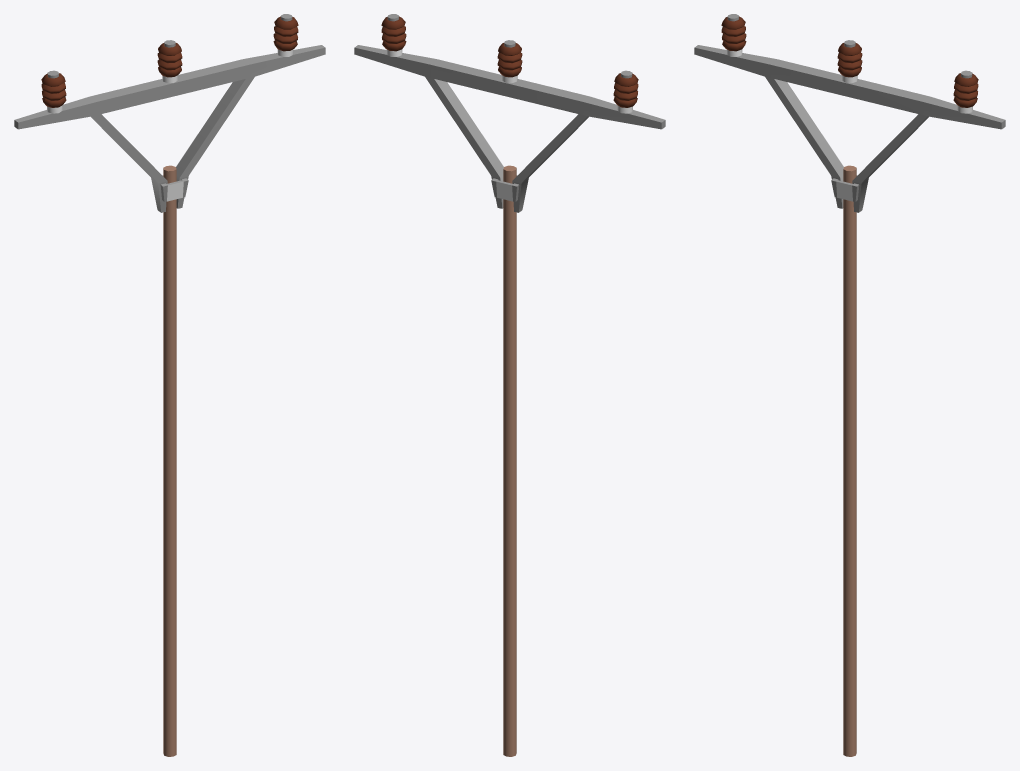
File: pole.obj
3 renders of one model, left to right at view 1: azimuth 30°, elevation 25°; view 2: azimuth 150°, elevation 25°; view 3: azimuth 330°, elevation 25°, orthographic.
Visible parts, largest first — view 1: pole; view 2: pole; view 3: pole.
Part boxes in pixels (x1,y1,x2,y2): pole: [14, 14, 325, 756]; pole: [354, 14, 665, 756]; pole: [694, 14, 1005, 756].
Bounding box in the file's own units: 9.04 × 20 × 0.644.
